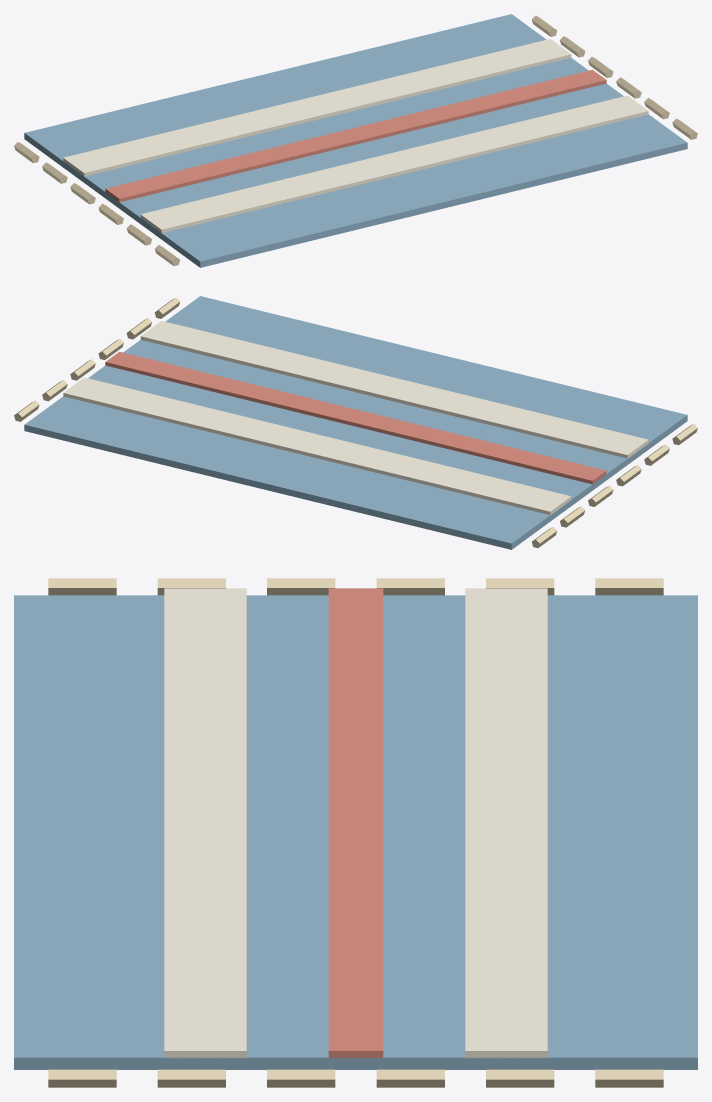
The model's file is 18-Casas_decor_alfombra_tejida.glb.
3 views of the same model, one above another, from view 1: azimuth 30°, elevation 25°; view 2: azimuth 150°, elevation 25°; view 3: azimuth 270°, elevation 25° (orthographic). The views are drawn at different scales.
Visible parts, largest first — view 1: SM_AlfaTej_Base, SM_AlfaTej_Franja1, SM_AlfaTej_Franja3, SM_AlfaTej_Franja2; view 2: SM_AlfaTej_Base, SM_AlfaTej_Franja3, SM_AlfaTej_Franja1, SM_AlfaTej_Franja2; view 3: SM_AlfaTej_Base, SM_AlfaTej_Franja3, SM_AlfaTej_Franja1, SM_AlfaTej_Franja2, SM_AlfaTej_Fleco.006, SM_AlfaTej_Fleco.011, SM_AlfaTej_Fleco.007, SM_AlfaTej_Fleco.008, SM_AlfaTej_Fleco.009, SM_AlfaTej_Fleco.010, SM_AlfaTej_Fleco, SM_AlfaTej_Fleco.005 (+4 smaller).
Boxes of the visible parts, x1,y1,x2,y2 form: SM_AlfaTej_Base: [24, 14, 687, 267]; SM_AlfaTej_Franja1: [63, 39, 571, 176]; SM_AlfaTej_Franja3: [140, 95, 648, 233]; SM_AlfaTej_Franja2: [105, 69, 606, 202]; SM_AlfaTej_Base: [24, 296, 687, 549]; SM_AlfaTej_Franja3: [140, 321, 648, 458]; SM_AlfaTej_Franja1: [63, 377, 571, 515]; SM_AlfaTej_Franja2: [105, 351, 606, 484]; SM_AlfaTej_Base: [14, 595, 697, 1069]; SM_AlfaTej_Franja3: [164, 588, 246, 1058]; SM_AlfaTej_Franja1: [465, 588, 547, 1058]; SM_AlfaTej_Franja2: [328, 588, 383, 1058]; SM_AlfaTej_Fleco.006: [48, 1069, 116, 1087]; SM_AlfaTej_Fleco.011: [595, 1069, 663, 1087]; SM_AlfaTej_Fleco.007: [157, 1069, 225, 1087]; SM_AlfaTej_Fleco.008: [267, 1069, 335, 1087]; SM_AlfaTej_Fleco.009: [376, 1069, 444, 1087]; SM_AlfaTej_Fleco.010: [486, 1069, 554, 1087]; SM_AlfaTej_Fleco: [48, 578, 116, 595]; SM_AlfaTej_Fleco.005: [595, 578, 663, 595].
Bounding box in the file's own units: 1.73 × 0.0323 × 1.
